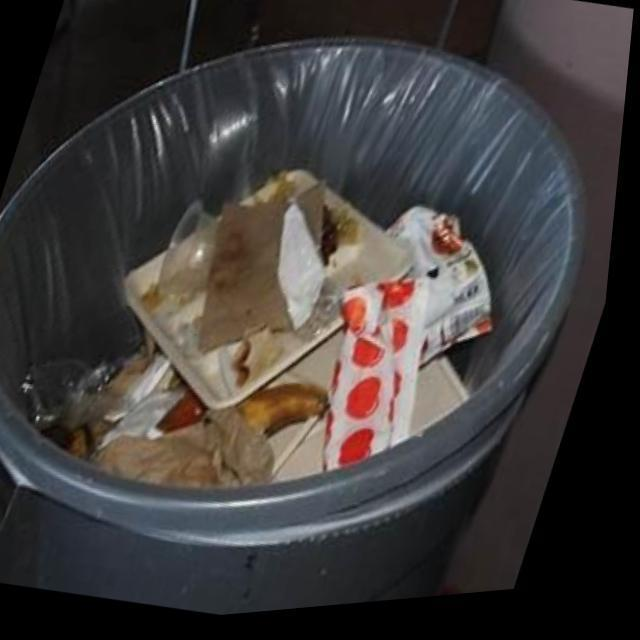Disposable: (131, 177, 417, 414)
Garbage: (28, 177, 498, 492)
Plastic_Bag: (334, 286, 435, 476), (394, 214, 498, 371)
